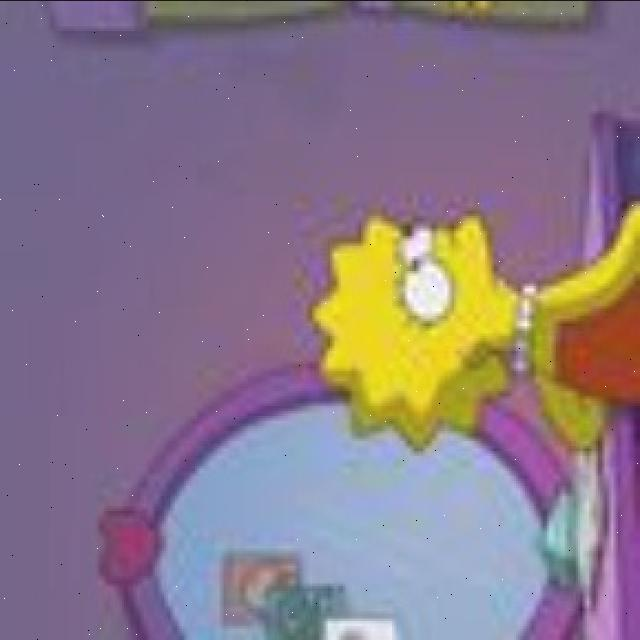Lisa Simpson: (308, 204, 542, 452)
